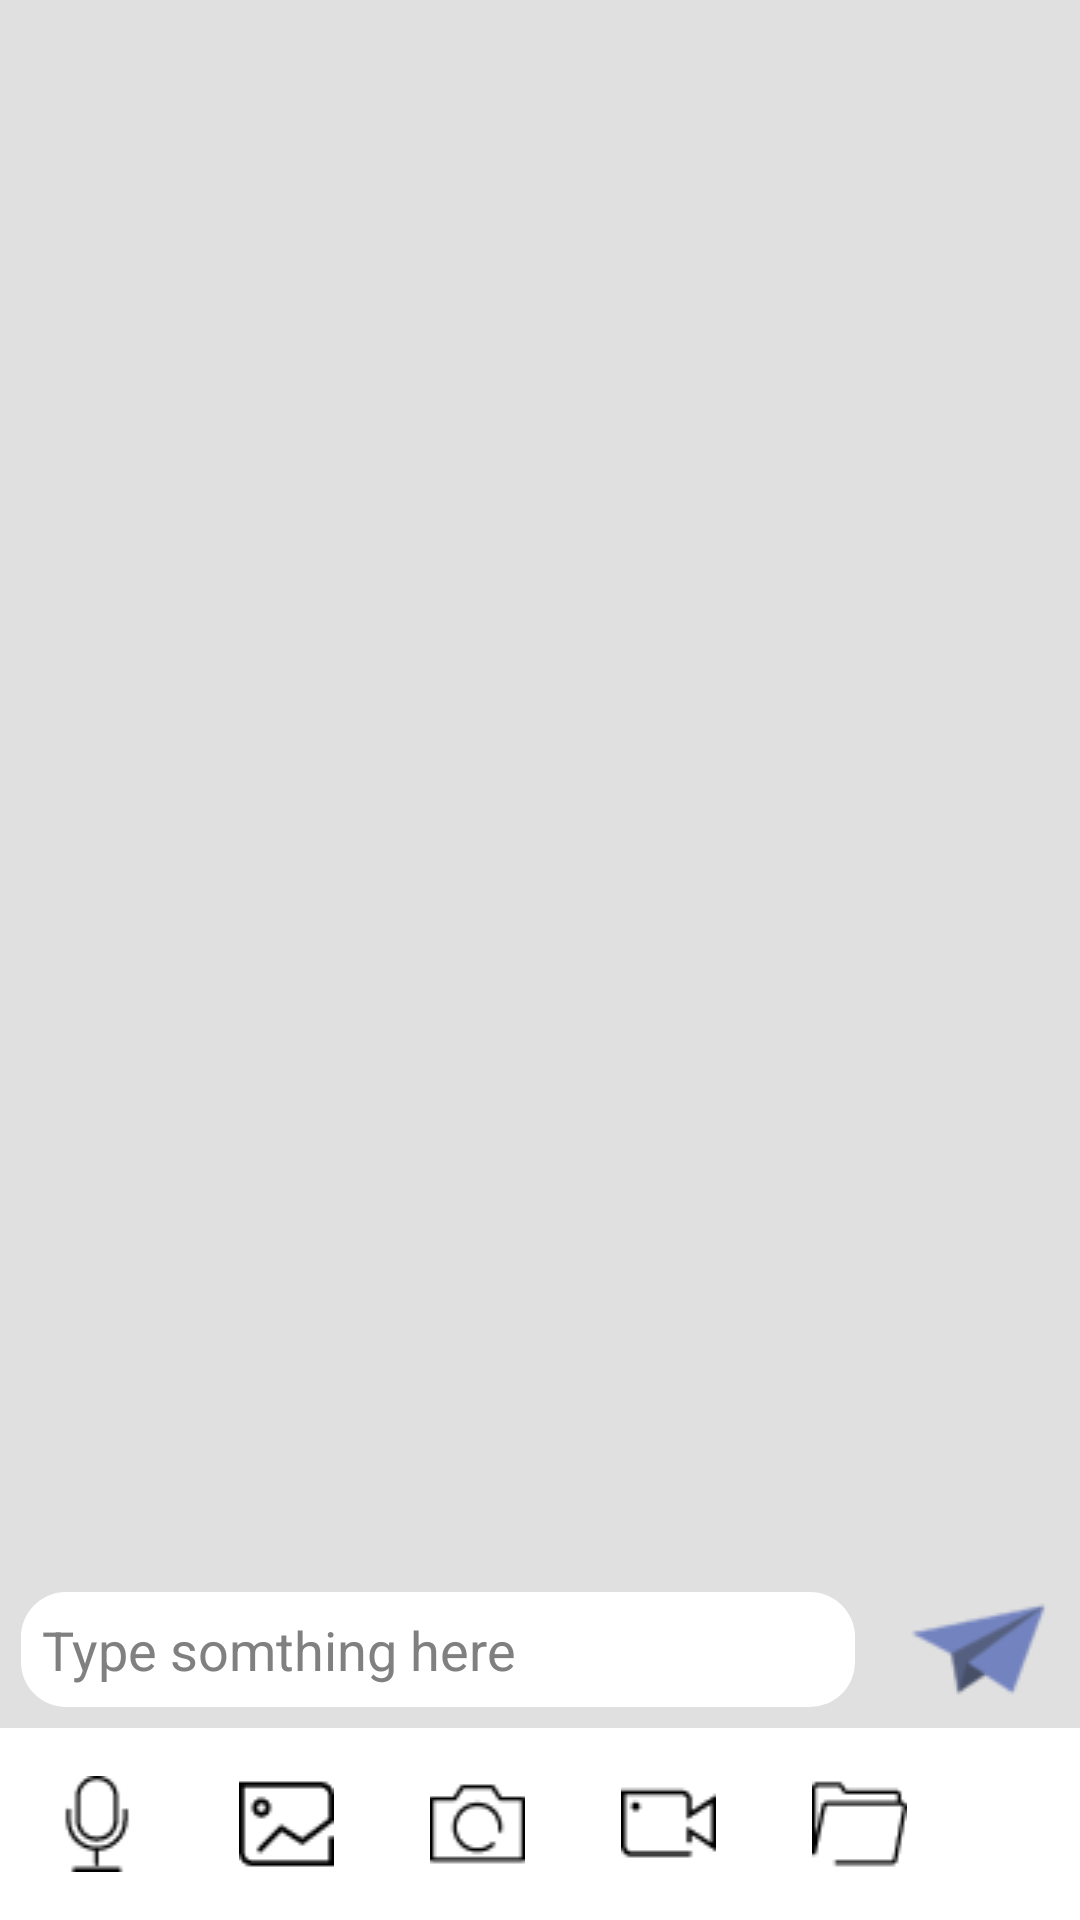

Named icons in this screenshot (1080w x 1920h) and their centers, (x=x, y=y):
camera: (x=477, y=1824)
folder: (x=859, y=1824)
record: (x=97, y=1824)
send: (x=979, y=1649)
video: (x=668, y=1823)
